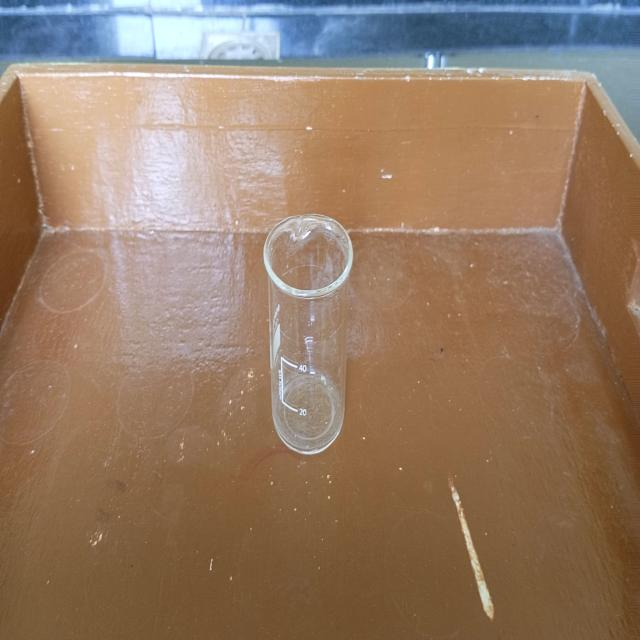beaker: (260, 205, 357, 459)
